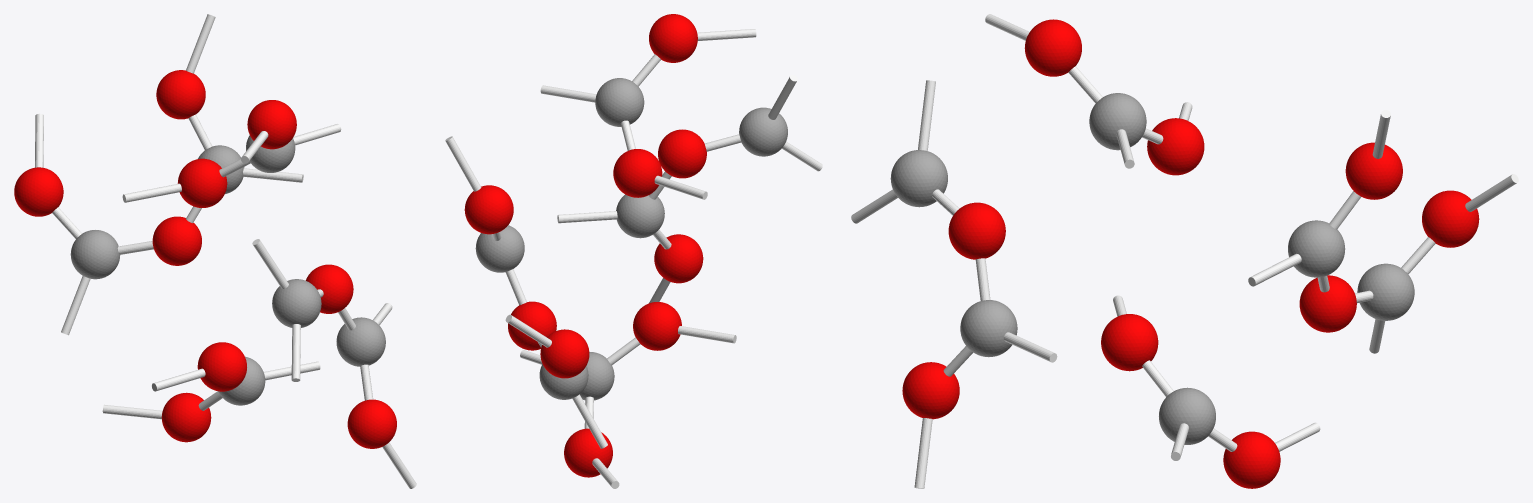
Rendered from structure_mpstyle.glb.
3 renders of one model, left to right at view 1: azimuth 30°, elevation 25°; view 2: azimuth 150°, elevation 25°; view 3: azimuth 270°, elevation 25°, orthographic. The views are drawn at different scales.
Parts seen in each view (by area): view 1: world; view 2: world; view 3: world.
Part boxes in pixels (x1,y1,x2,y2): world: (14,14,416,488); world: (445,14,822,488); world: (851,14,1518,488).
Bounding box in the file's own units: 3.9 × 7.14 × 9.31.
